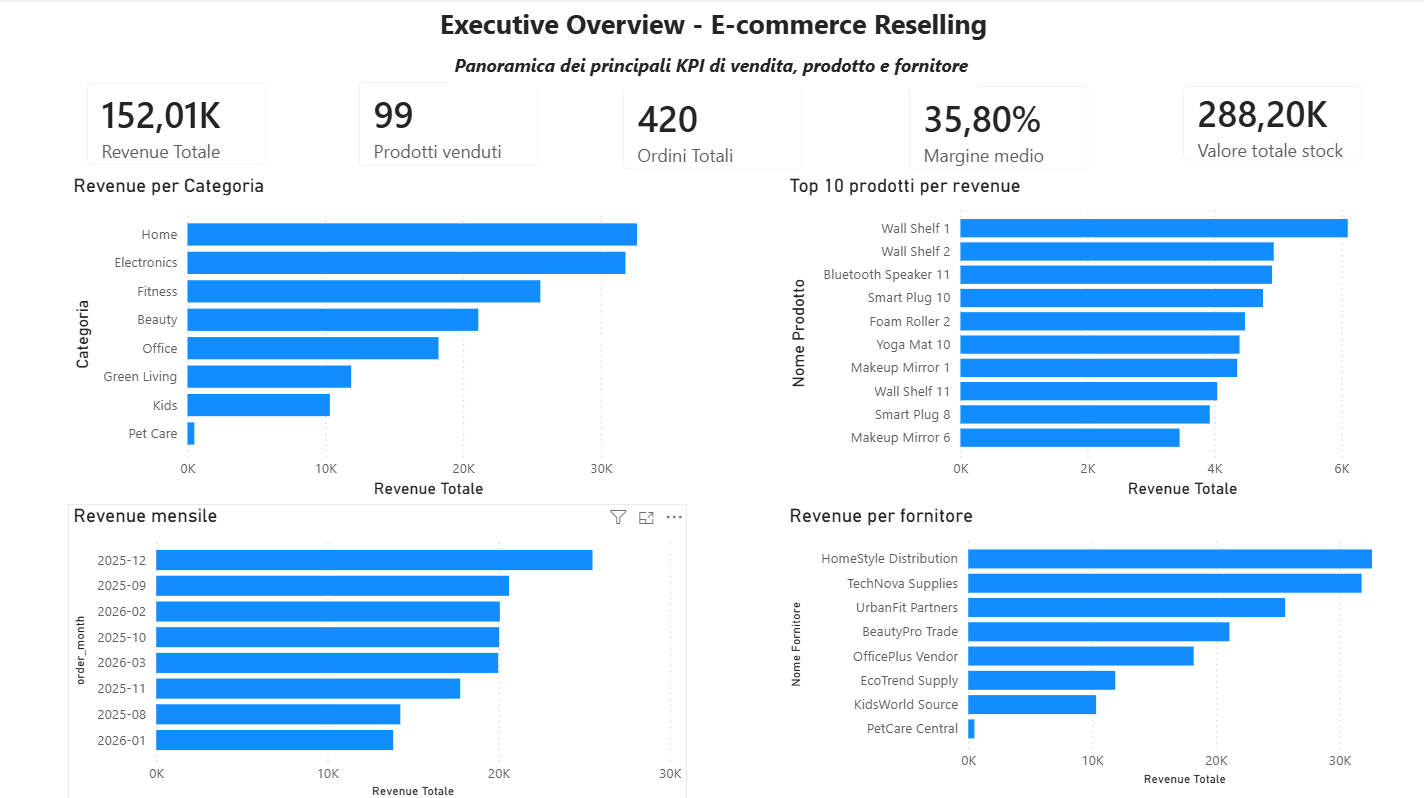

The page's visual inventory and layout, read from the dashboard file:
{"tool":"powerbi","page":{"name":"Executive Overview","canvas":[1280,720],"ordinal":0},"visuals":[{"type":"cardVisual","fields":{"Data":["sales_analysis.Total Revenue"]},"box":[62,58,195,107],"z":0},{"type":"cardVisual","fields":{"Data":["sales_analysis.Average Margin %"]},"box":[798,61,195,109],"z":1000},{"type":"cardVisual","fields":{"Data":["products.Total Stock Value"]},"box":[1043,61,195,101],"z":2000},{"type":"cardVisual","fields":{"Data":["sales_analysis.Total Orders"]},"box":[542,61,195,109],"z":3000},{"type":"cardVisual","fields":{"Data":["sales_analysis.Products Sold"]},"box":[305,57,195,109],"z":4000},{"type":"clusteredBarChart","title":"Revenue per Categoria","fields":{"Category":["sales_analysis.category"],"Y":["sales_analysis.Total Revenue"]},"box":[62,157,554,295],"z":5000},{"type":"clusteredBarChart","title":"Revenue mensile","fields":{"Category":["sales_analysis.order_month"],"Y":["sales_analysis.Total Revenue"]},"box":[62,452,554,268],"z":6000},{"type":"clusteredBarChart","title":"Top 10 prodotti per revenue","fields":{"Category":["sales_analysis.product_name"],"Y":["sales_analysis.Total Revenue"]},"box":[703,157,568,295],"z":7000},{"type":"clusteredBarChart","title":"Revenue per fornitore","fields":{"Category":["sales_analysis.supplier_name"],"Y":["sales_analysis.Total Revenue"]},"box":[703,452,568,257],"z":8000},{"type":"textbox","box":[383,0,513,47],"z":9000},{"type":"textbox","box":[403,43,473,36],"z":10000}]}

Visuals, with their boxes in screenshot pixels (x1, y1, x2, y2), scaled from the page's 1280x720 canvas onto the 1424x798 screenshot:
cardVisual - sales_analysis.Total Revenue: 69:64:286:183
cardVisual - sales_analysis.Average Margin %: 888:68:1105:188
cardVisual - products.Total Stock Value: 1160:68:1377:180
cardVisual - sales_analysis.Total Orders: 603:68:820:188
cardVisual - sales_analysis.Products Sold: 339:63:556:184
"Revenue per Categoria" clusteredBarChart: 69:174:685:501
"Revenue mensile" clusteredBarChart: 69:501:685:797
"Top 10 prodotti per revenue" clusteredBarChart: 782:174:1414:501
"Revenue per fornitore" clusteredBarChart: 782:501:1414:786
textbox: 426:0:997:52
textbox: 448:48:975:88
